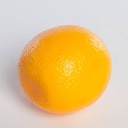orange: (18, 22, 112, 114)
